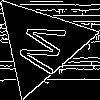W: (15, 19, 76, 78)
